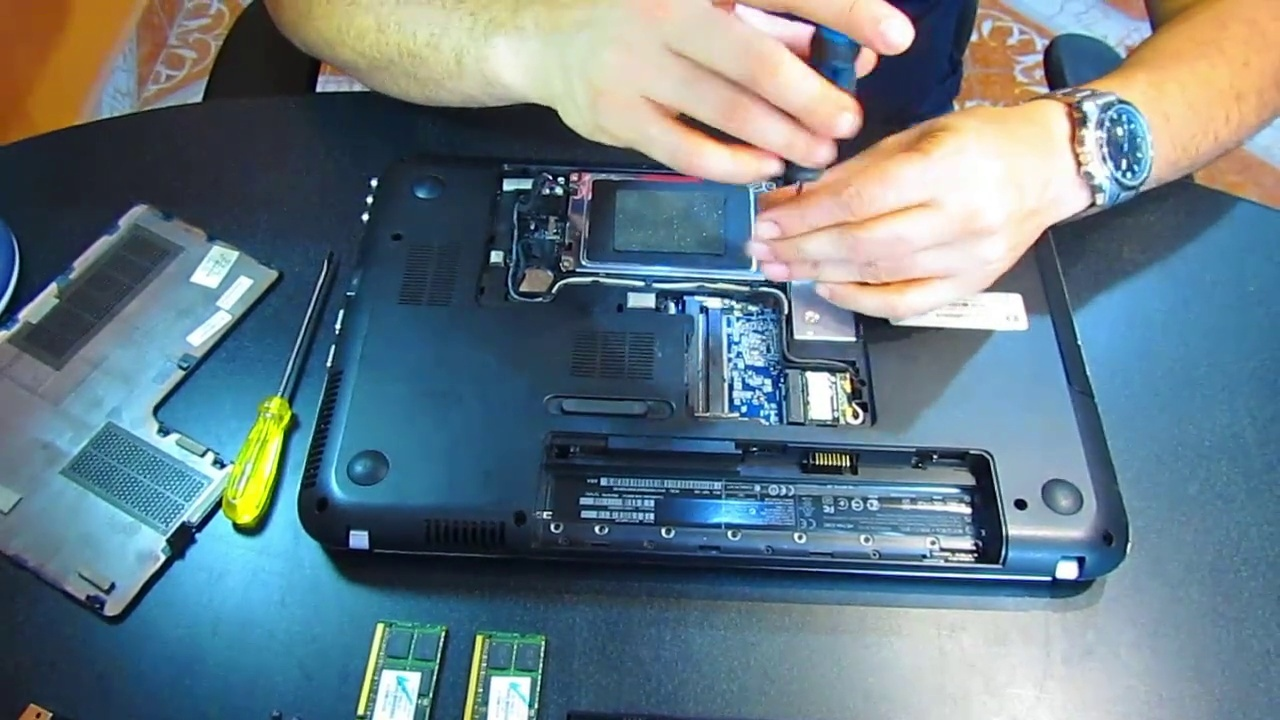screwdriver: (217, 247, 341, 529), (769, 11, 861, 294)
